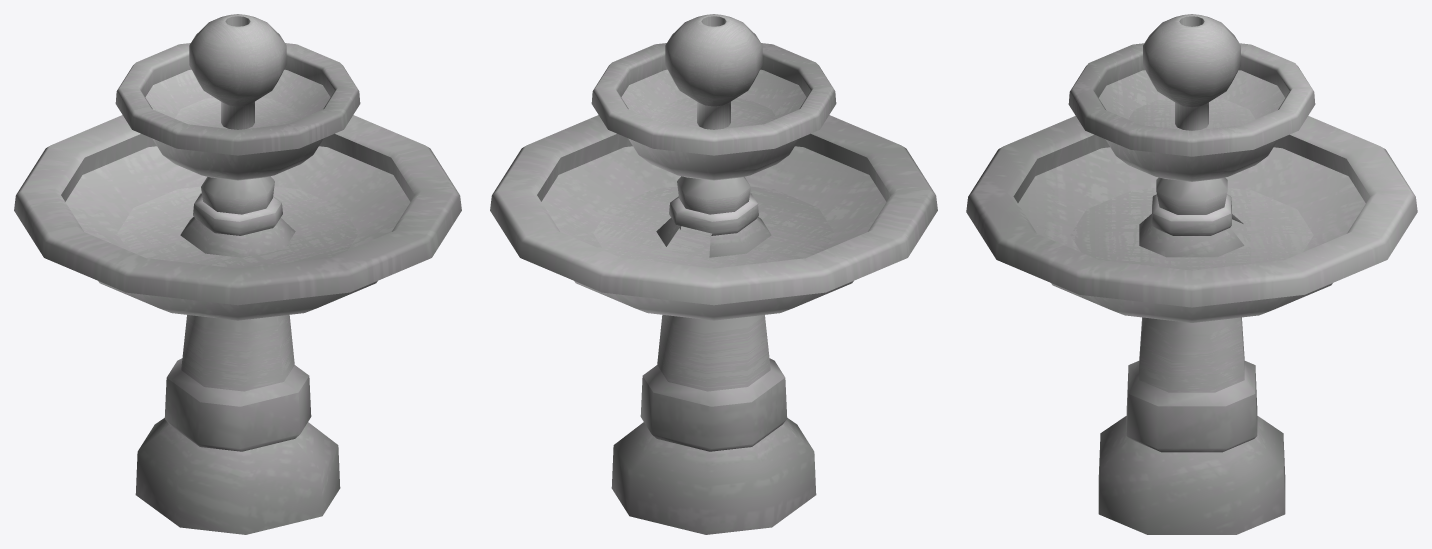
The model's file is SmallCementFountainHand.fbx.
3 renders of one model, left to right at view 1: azimuth 30°, elevation 25°; view 2: azimuth 150°, elevation 25°; view 3: azimuth 270°, elevation 25°, orthographic.
Parts seen in each view (by area): view 1: Item; view 2: Item; view 3: Item.
Boxes of the visible parts, left/top/right/bottom form: Item: left=14, top=14, right=461, bottom=534; Item: left=490, top=14, right=937, bottom=534; Item: left=966, top=14, right=1417, bottom=534.
Bounding box in the file's own units: 0.9148 × 1.06 × 0.9148.
